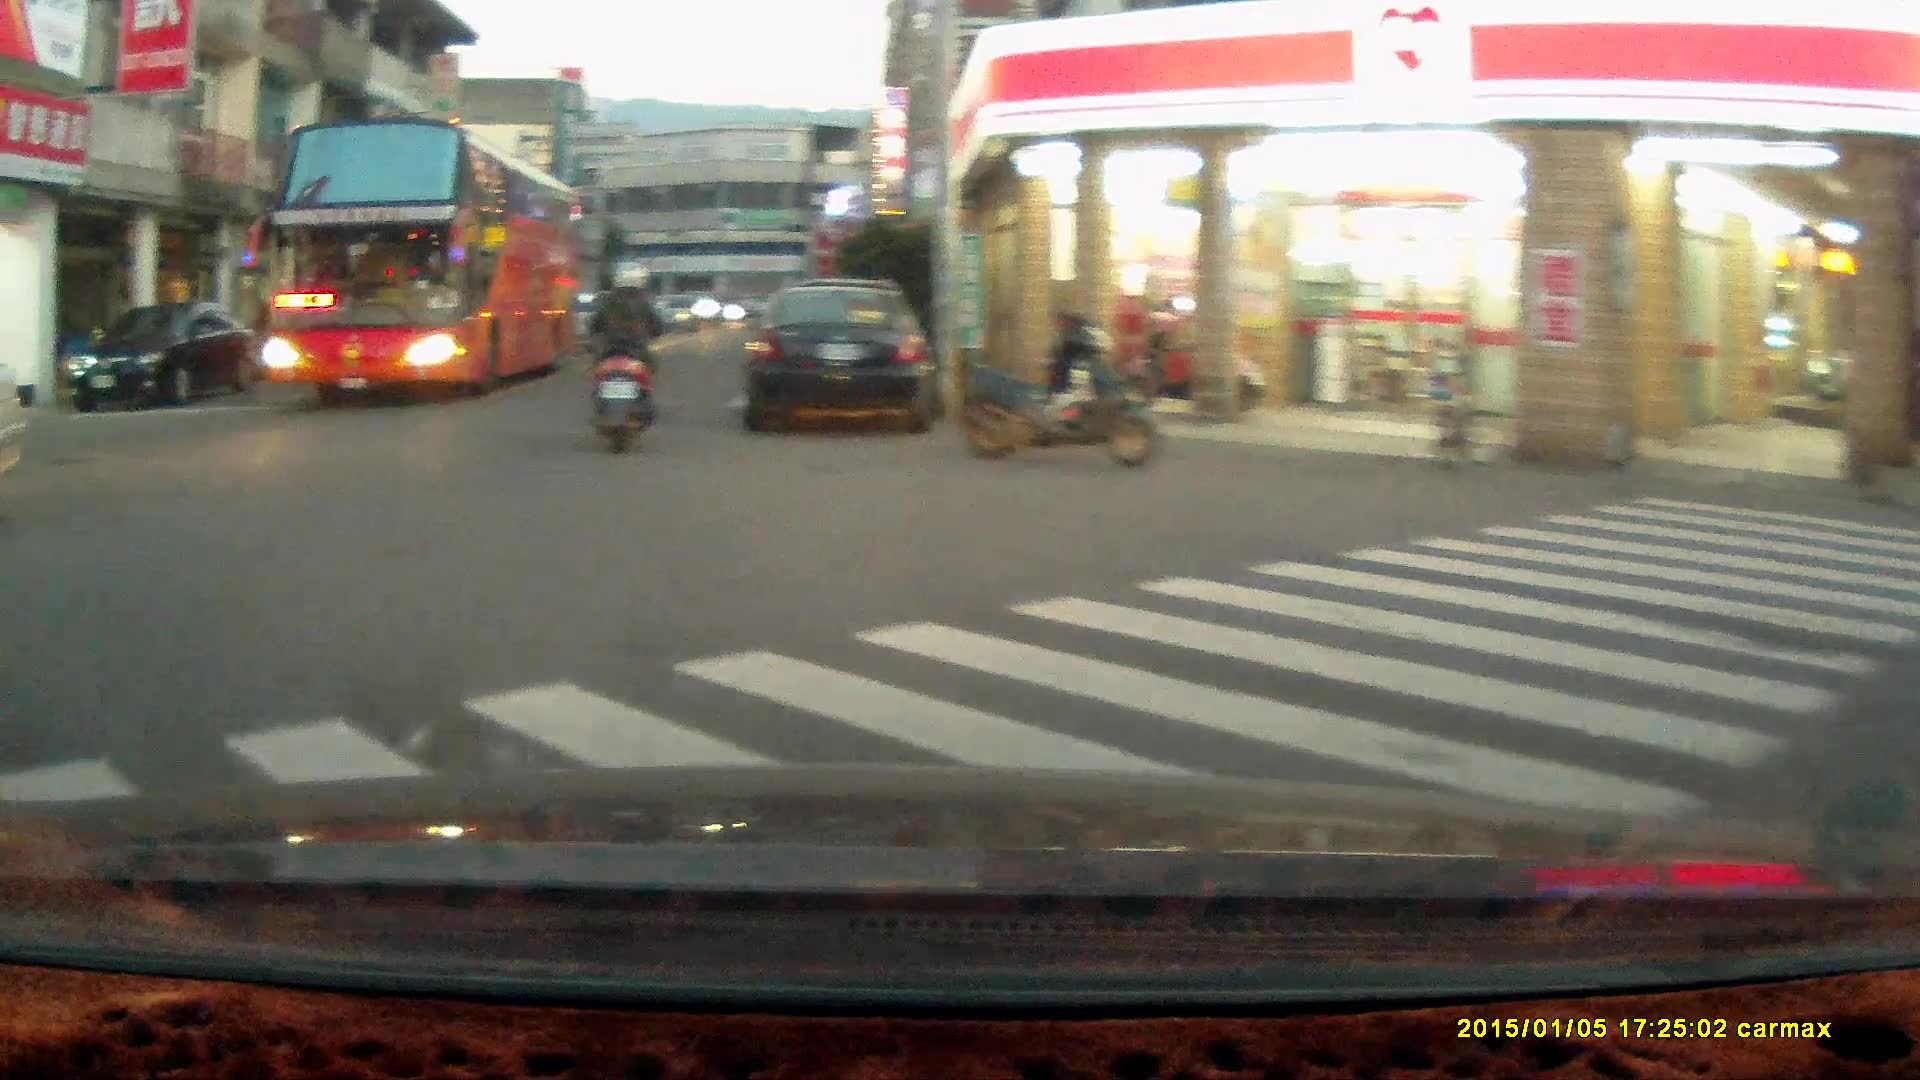rider: (575, 262, 663, 459)
vehicle: (259, 118, 586, 406), (739, 276, 938, 430), (65, 302, 264, 413)
